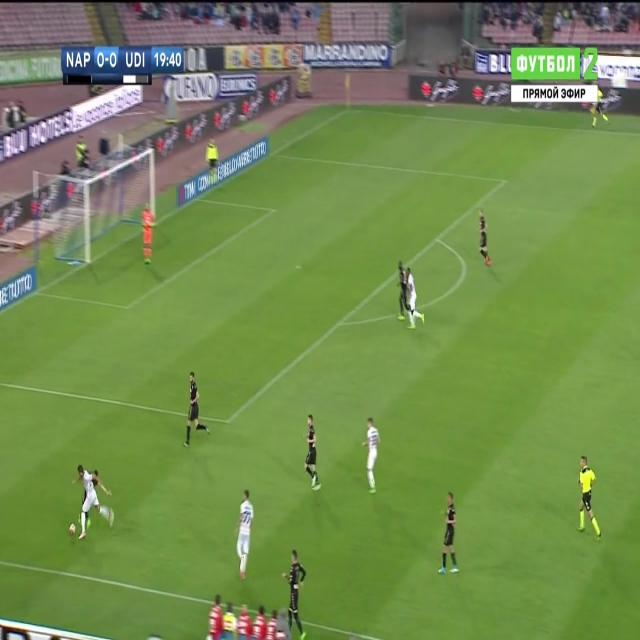Ball: (66, 517, 78, 540)
Goalkeeper: (137, 199, 159, 267)
Player: (74, 460, 114, 546), (179, 366, 211, 451), (436, 490, 461, 580), (235, 488, 256, 584), (301, 411, 322, 493), (362, 418, 381, 498), (405, 262, 426, 333), (475, 206, 493, 269), (394, 258, 407, 322)
Referee: (576, 453, 605, 542), (202, 135, 222, 200), (591, 86, 609, 132)
